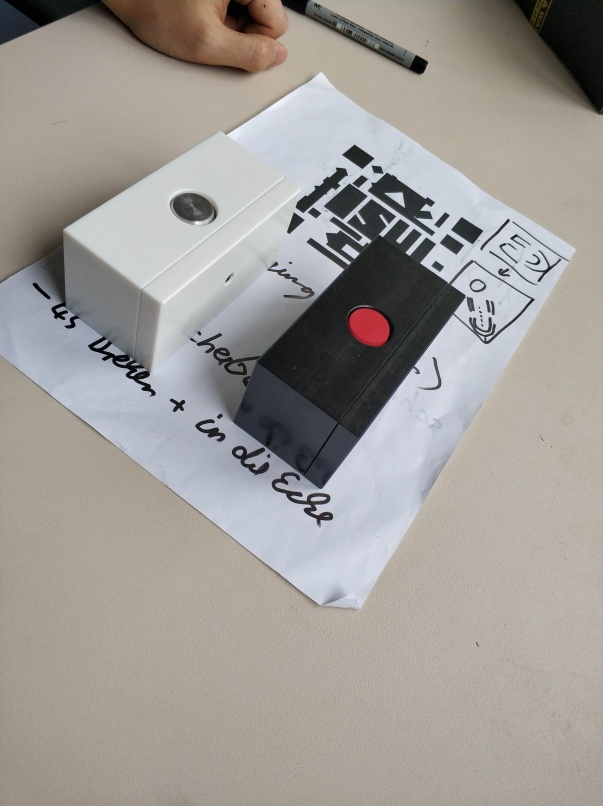black+black+red: (231, 235, 471, 494)
white+white+silver: (59, 127, 306, 384)
